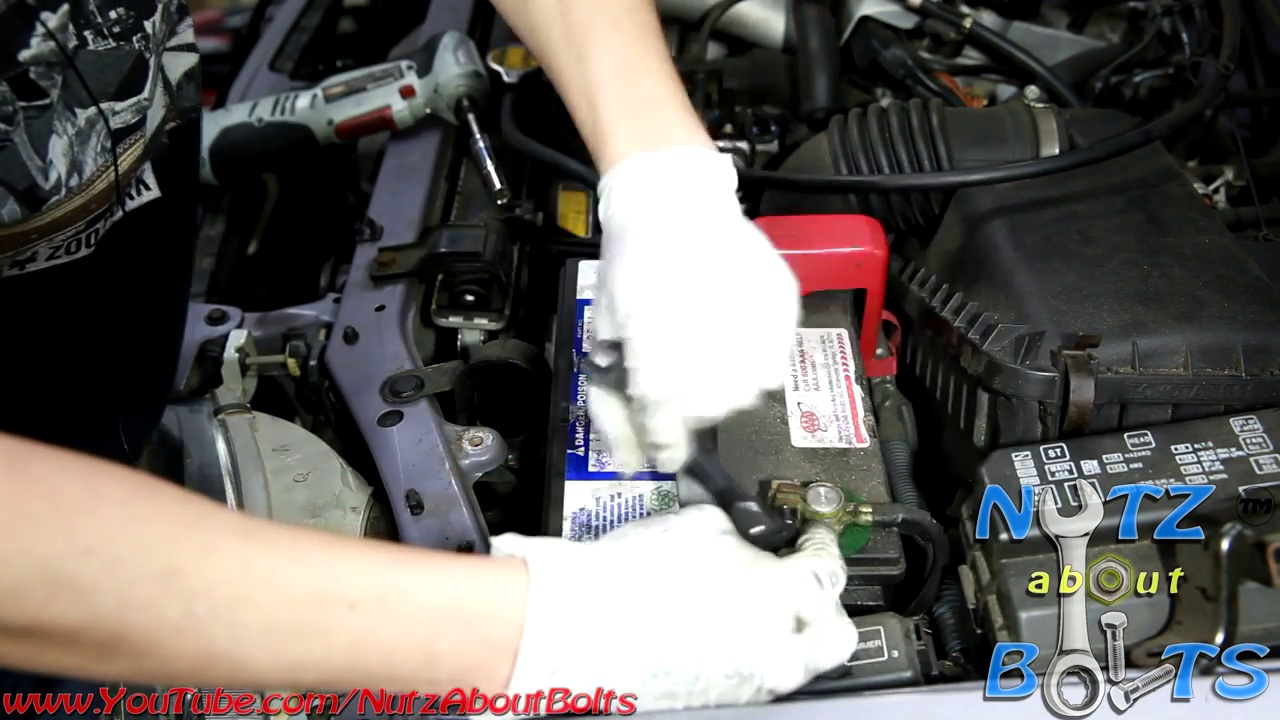battery: (554, 220, 928, 607)
neg_touched: (727, 447, 939, 642)
pos_touched: (657, 168, 900, 391)
